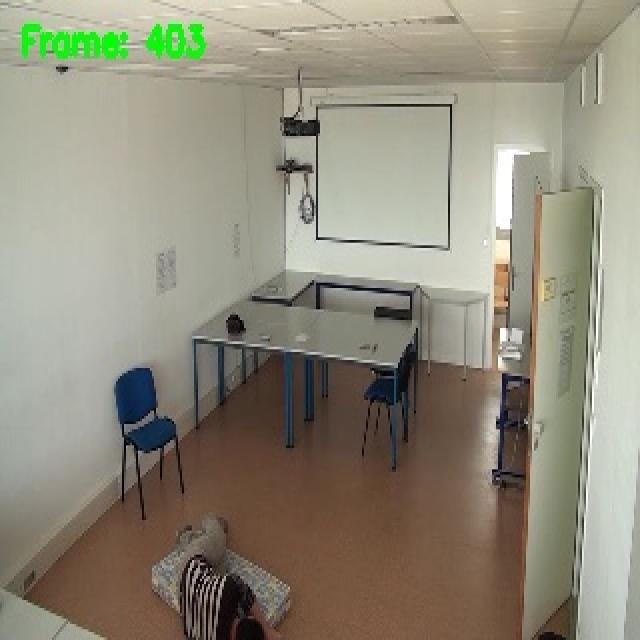Fall-Detected: (171, 509, 295, 640)
